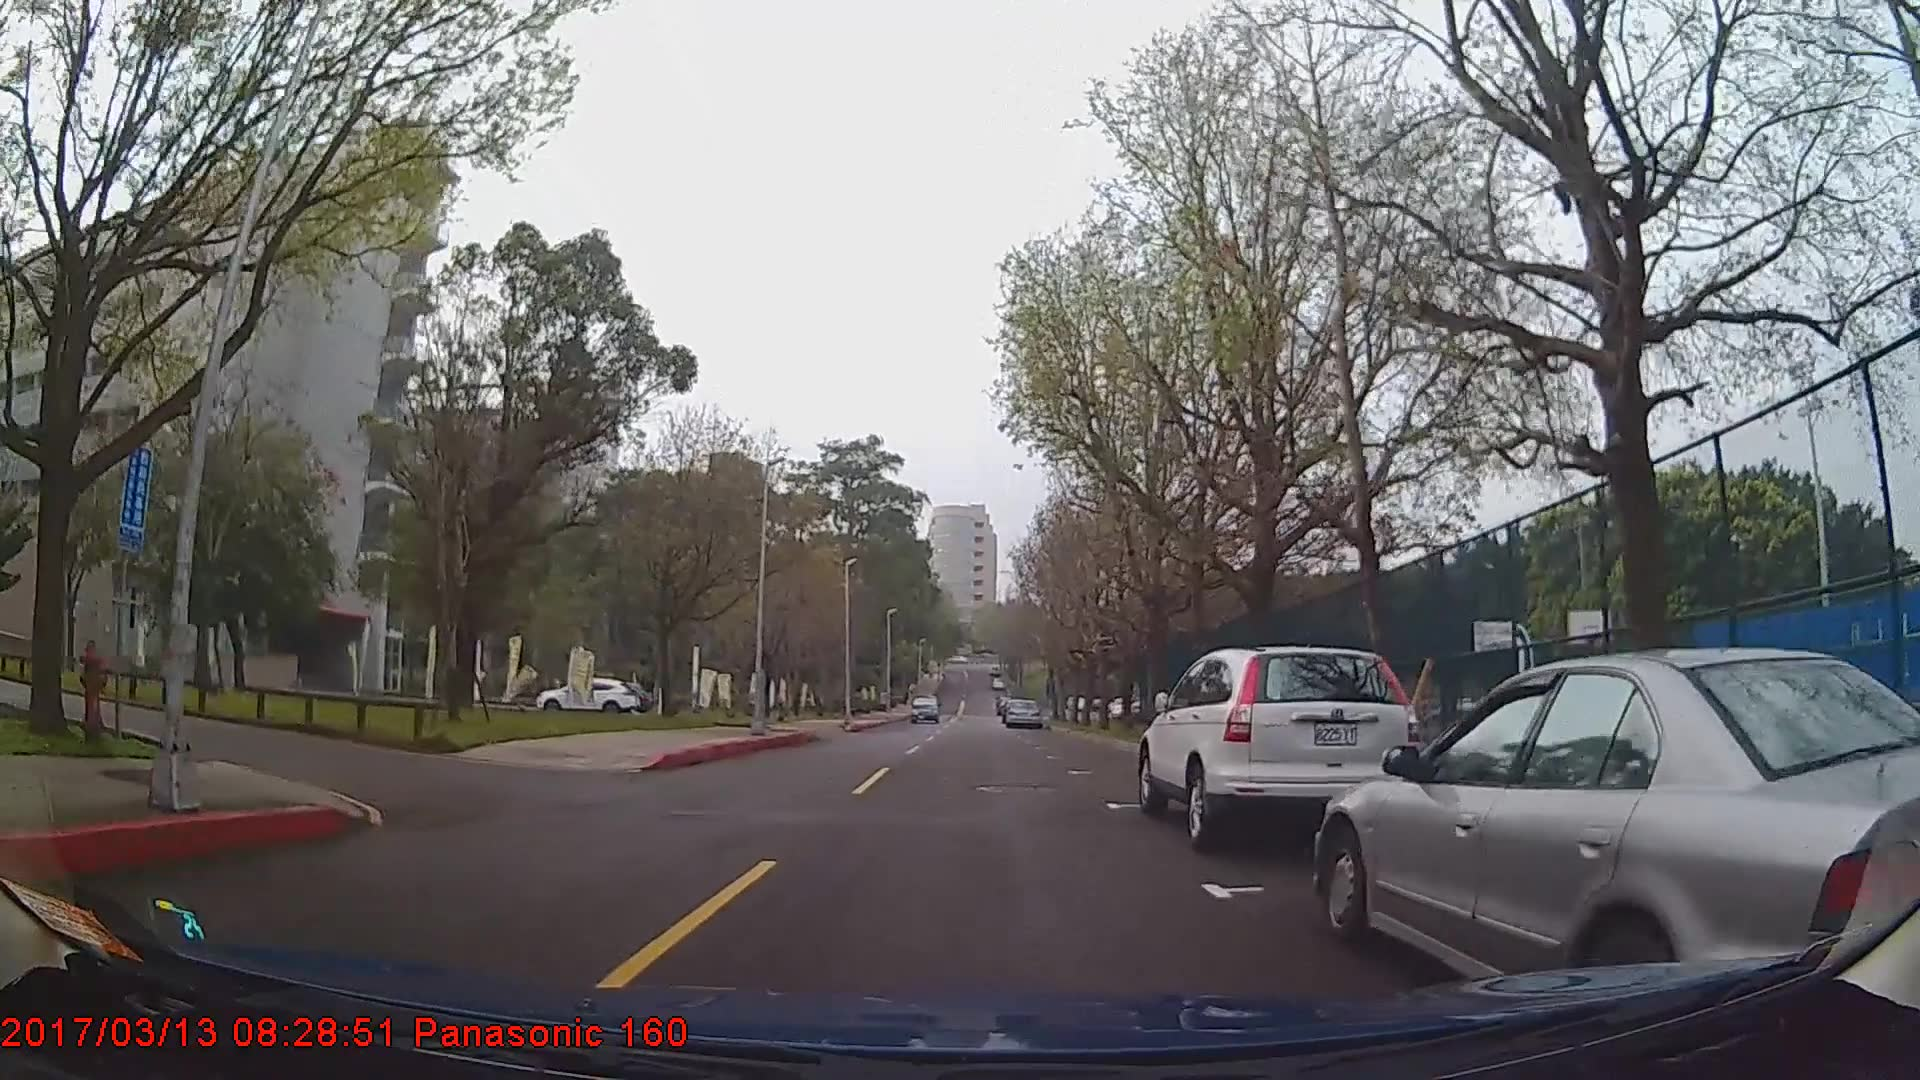vehicle: (1315, 642, 1920, 1018), (1137, 647, 1425, 855), (535, 676, 641, 715), (1002, 698, 1040, 729), (907, 692, 942, 723)
